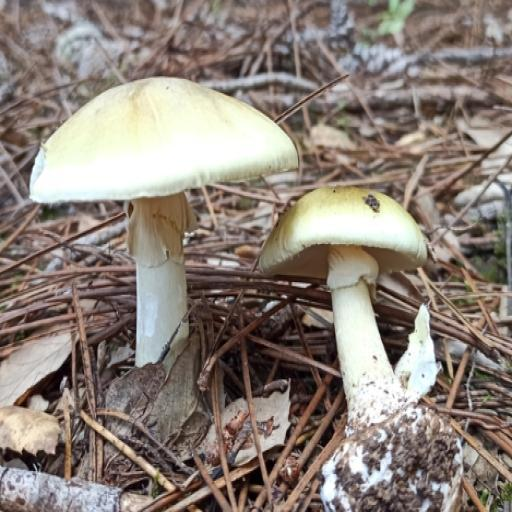mushroom: (0, 25, 308, 375), (0, 0, 1, 1)
